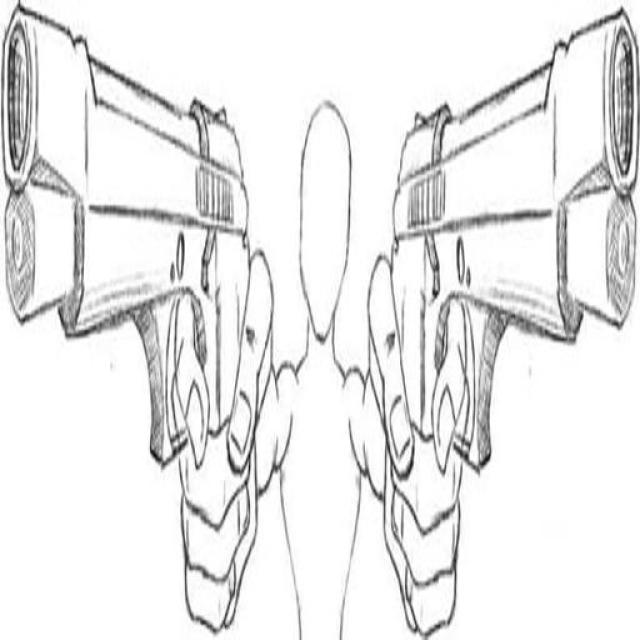pistol: (1, 7, 259, 640), (382, 30, 611, 570)
